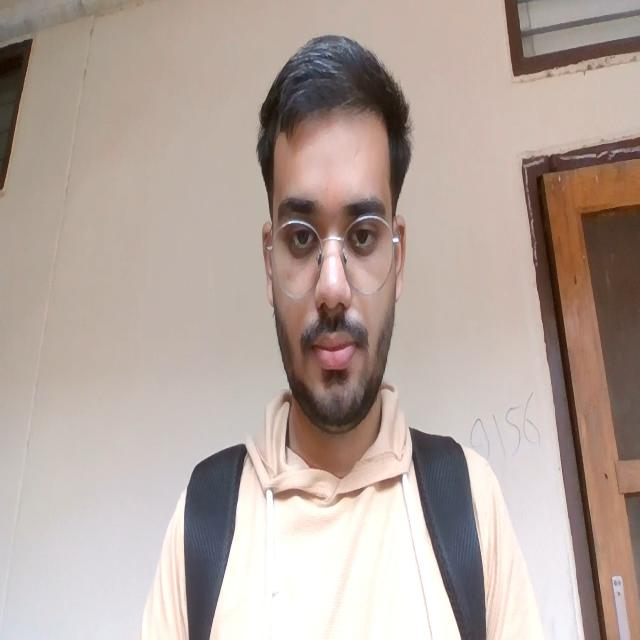awake: (274, 184, 387, 374)
